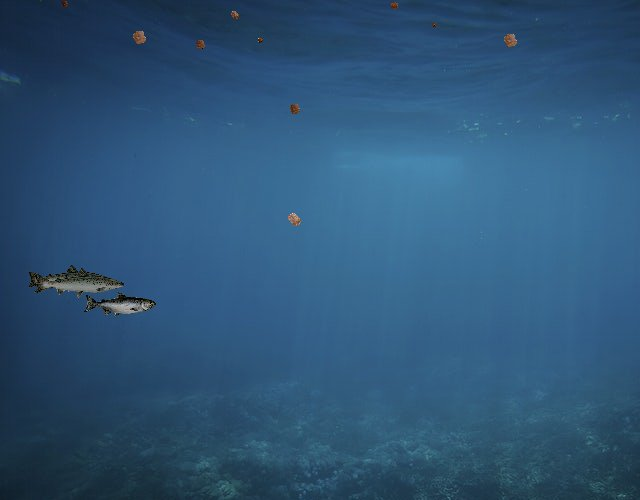Fish: (33, 267, 127, 300), (26, 263, 112, 294), (83, 292, 156, 318)
Pellet: (280, 206, 308, 234), (125, 24, 153, 52), (284, 98, 306, 120), (226, 6, 243, 24), (254, 34, 266, 46)
